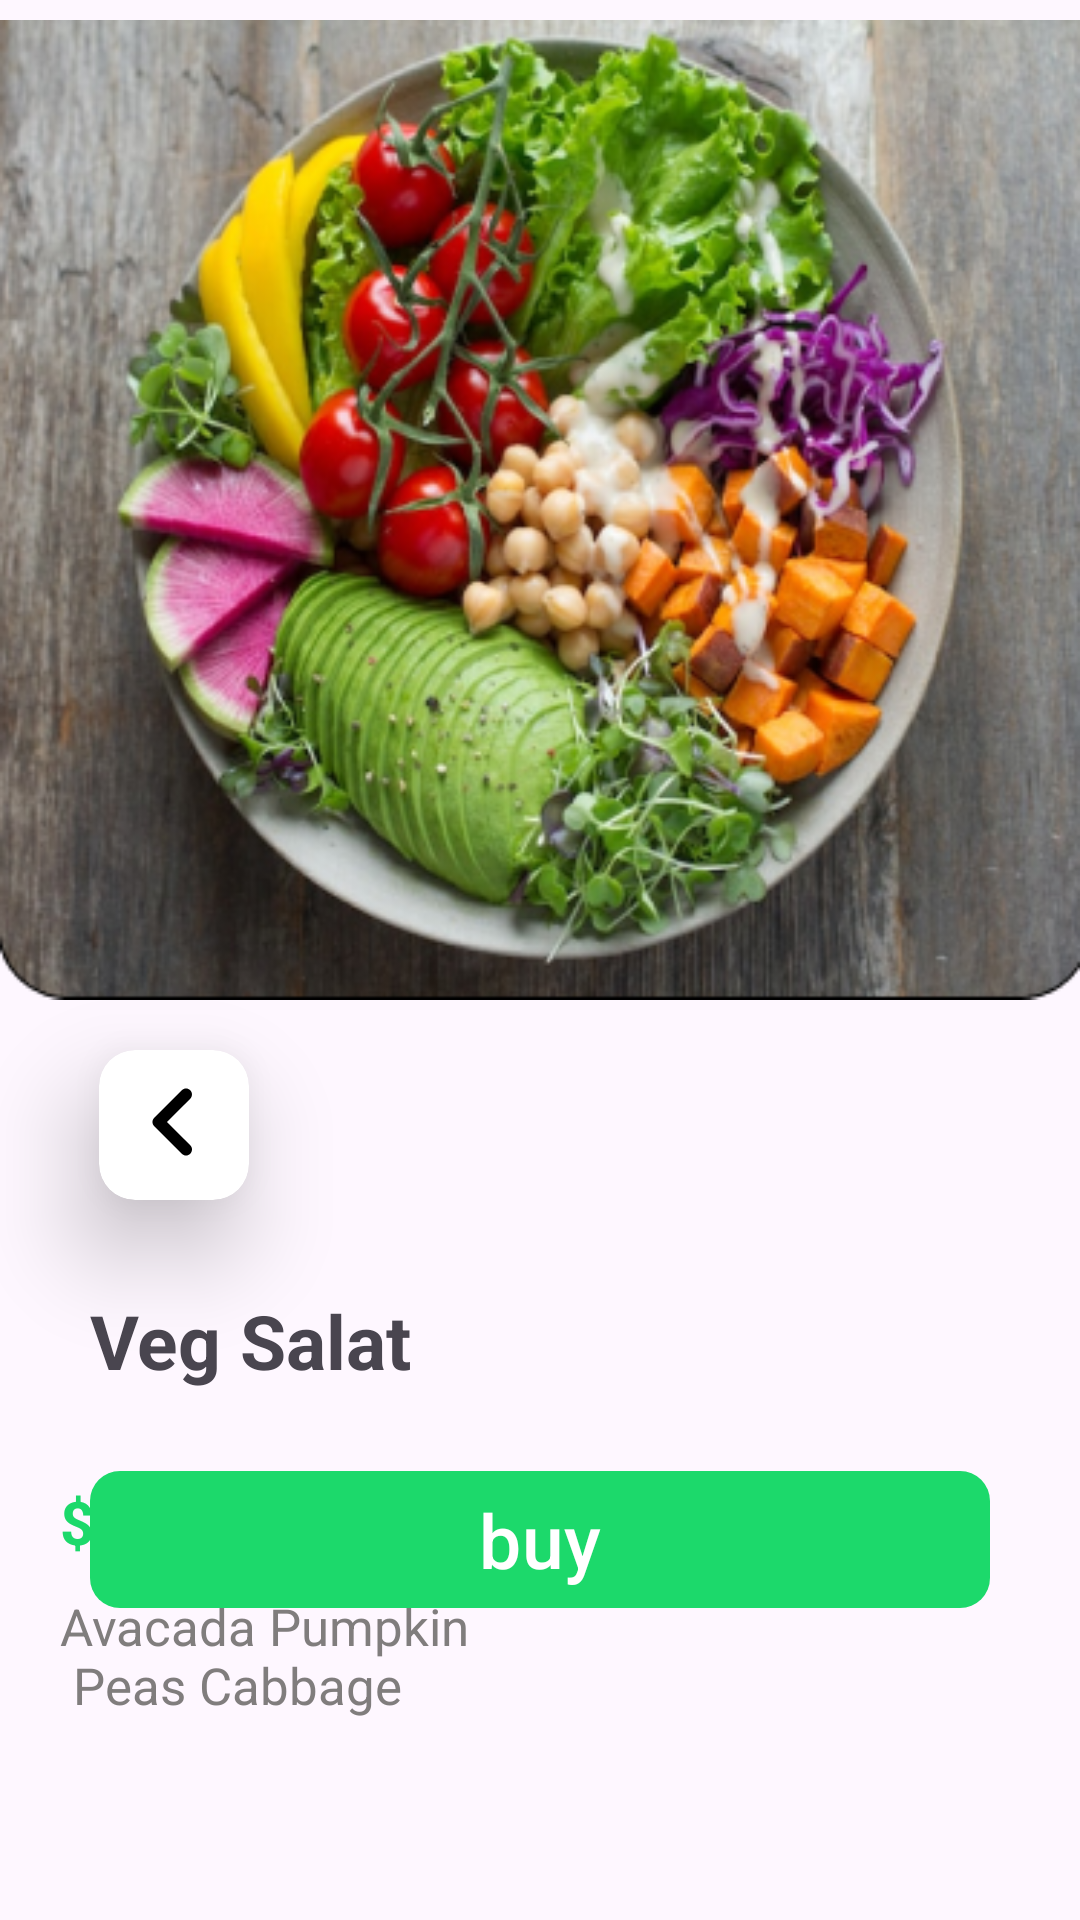

Icon bounding boxes for this 1080px×1920px phone screenshot, format (x1, y1, x2, y2):
chevron left: (99, 1053, 249, 1197)
